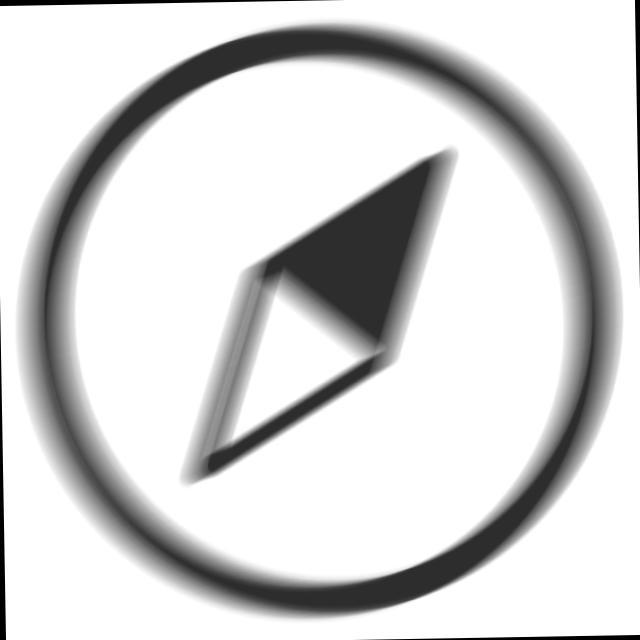compass: (4, 10, 637, 639)
